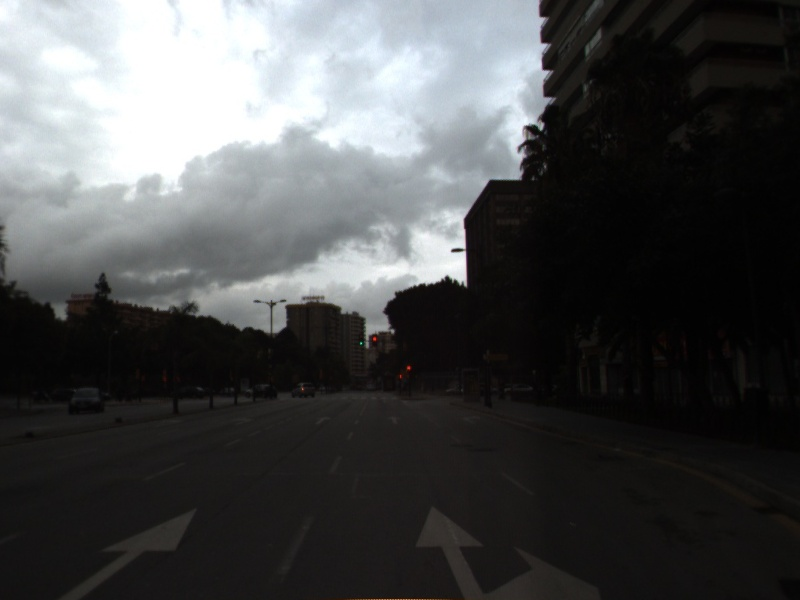LEFT: (229, 415, 256, 428)
RIGHT: (460, 413, 482, 426)
STRAIGHT: (54, 501, 204, 600), (384, 414, 404, 426), (313, 414, 333, 426)
STRAIGHT_RIGHT: (409, 503, 603, 600)
